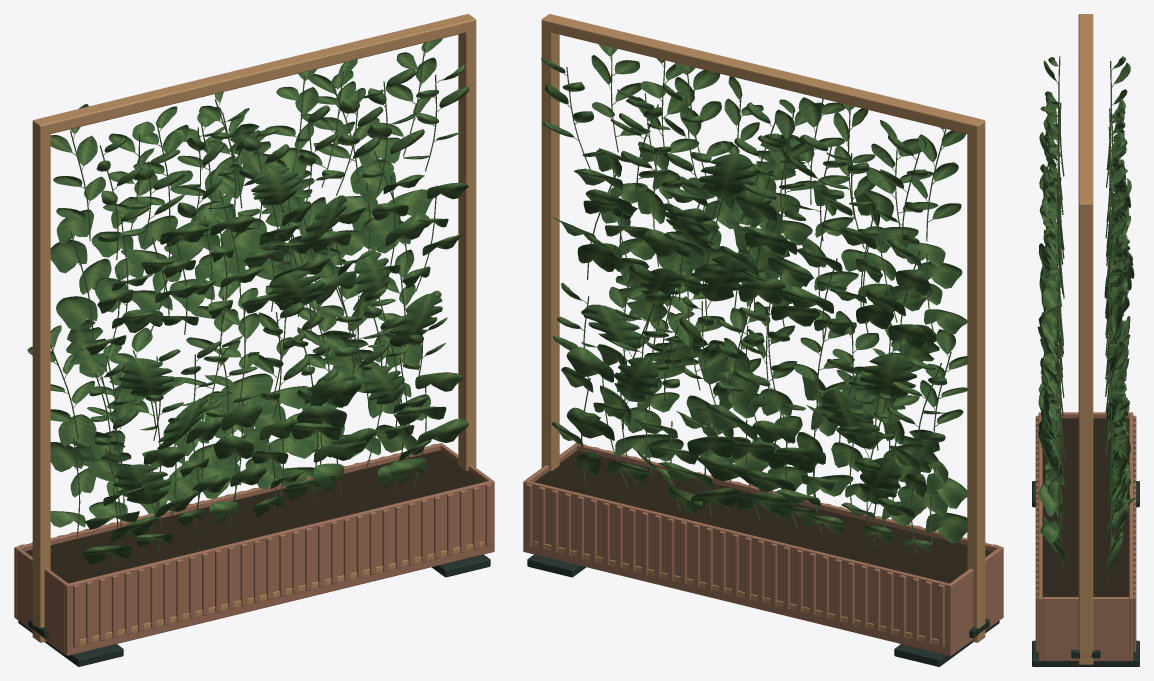
File: botanicalDivider-4.glb
3 views of the same model, side by side, from view 1: azimuth 30°, elevation 25°; view 2: azimuth 150°, elevation 25°; view 3: azimuth 270°, elevation 25° (orthographic). The views are drawn at different scales.
Visible parts, largest first — view 1: Botanical_living_foliage, Botanical_terracotta, Botanical_frame_finish, Botanical_recessed_soil, Botanical_connected_stems, Botanical_leaf_midribs, Botanical_powdercoat; view 2: Botanical_living_foliage, Botanical_terracotta, Botanical_frame_finish, Botanical_recessed_soil, Botanical_connected_stems, Botanical_leaf_midribs, Botanical_powdercoat; view 3: Botanical_living_foliage, Botanical_frame_finish, Botanical_terracotta, Botanical_recessed_soil, Botanical_connected_stems, Botanical_powdercoat, Botanical_leaf_midribs.
Boxes of the visible parts, x1=… form: Botanical_living_foliage: x1=27, y1=38, x2=469, y2=564; Botanical_terracotta: x1=14, y1=443, x2=494, y2=655; Botanical_frame_finish: x1=32, y1=14, x2=483, y2=645; Botanical_recessed_soil: x1=25, y1=450, x2=483, y2=583; Botanical_connected_stems: x1=50, y1=48, x2=441, y2=564; Botanical_leaf_midribs: x1=51, y1=48, x2=465, y2=552; Botanical_powdercoat: x1=18, y1=554, x2=490, y2=666; Botanical_living_foliage: x1=541, y1=44, x2=967, y2=551; Botanical_terracotta: x1=523, y1=443, x2=1003, y2=655; Botanical_frame_finish: x1=534, y1=14, x2=985, y2=645; Botanical_recessed_soil: x1=534, y1=450, x2=992, y2=583; Botanical_connected_stems: x1=563, y1=53, x2=951, y2=555; Botanical_leaf_midribs: x1=543, y1=47, x2=966, y2=543; Botanical_powdercoat: x1=527, y1=554, x2=999, y2=666; Botanical_living_foliage: x1=1037, y1=56, x2=1134, y2=571; Botanical_frame_finish: x1=1078, y1=14, x2=1093, y2=664; Botanical_terracotta: x1=1035, y1=412, x2=1136, y2=661; Botanical_recessed_soil: x1=1042, y1=418, x2=1129, y2=597; Botanical_connected_stems: x1=1054, y1=56, x2=1115, y2=581; Botanical_powdercoat: x1=1032, y1=481, x2=1139, y2=666; Botanical_leaf_midribs: x1=1040, y1=60, x2=1131, y2=555.
Size of the model in its own units: 2 by 2.3 by 0.48.
